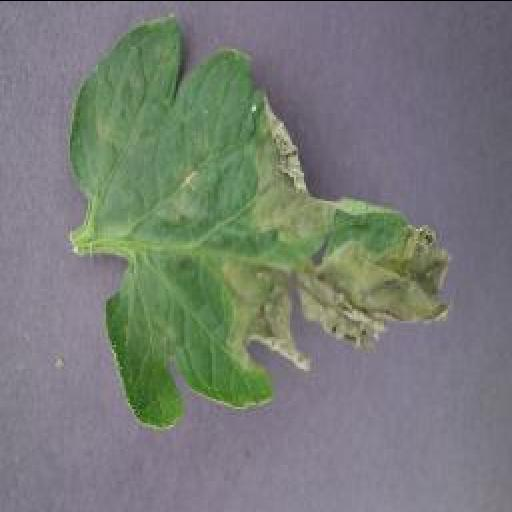disease_tomato: (66, 14, 458, 428)
